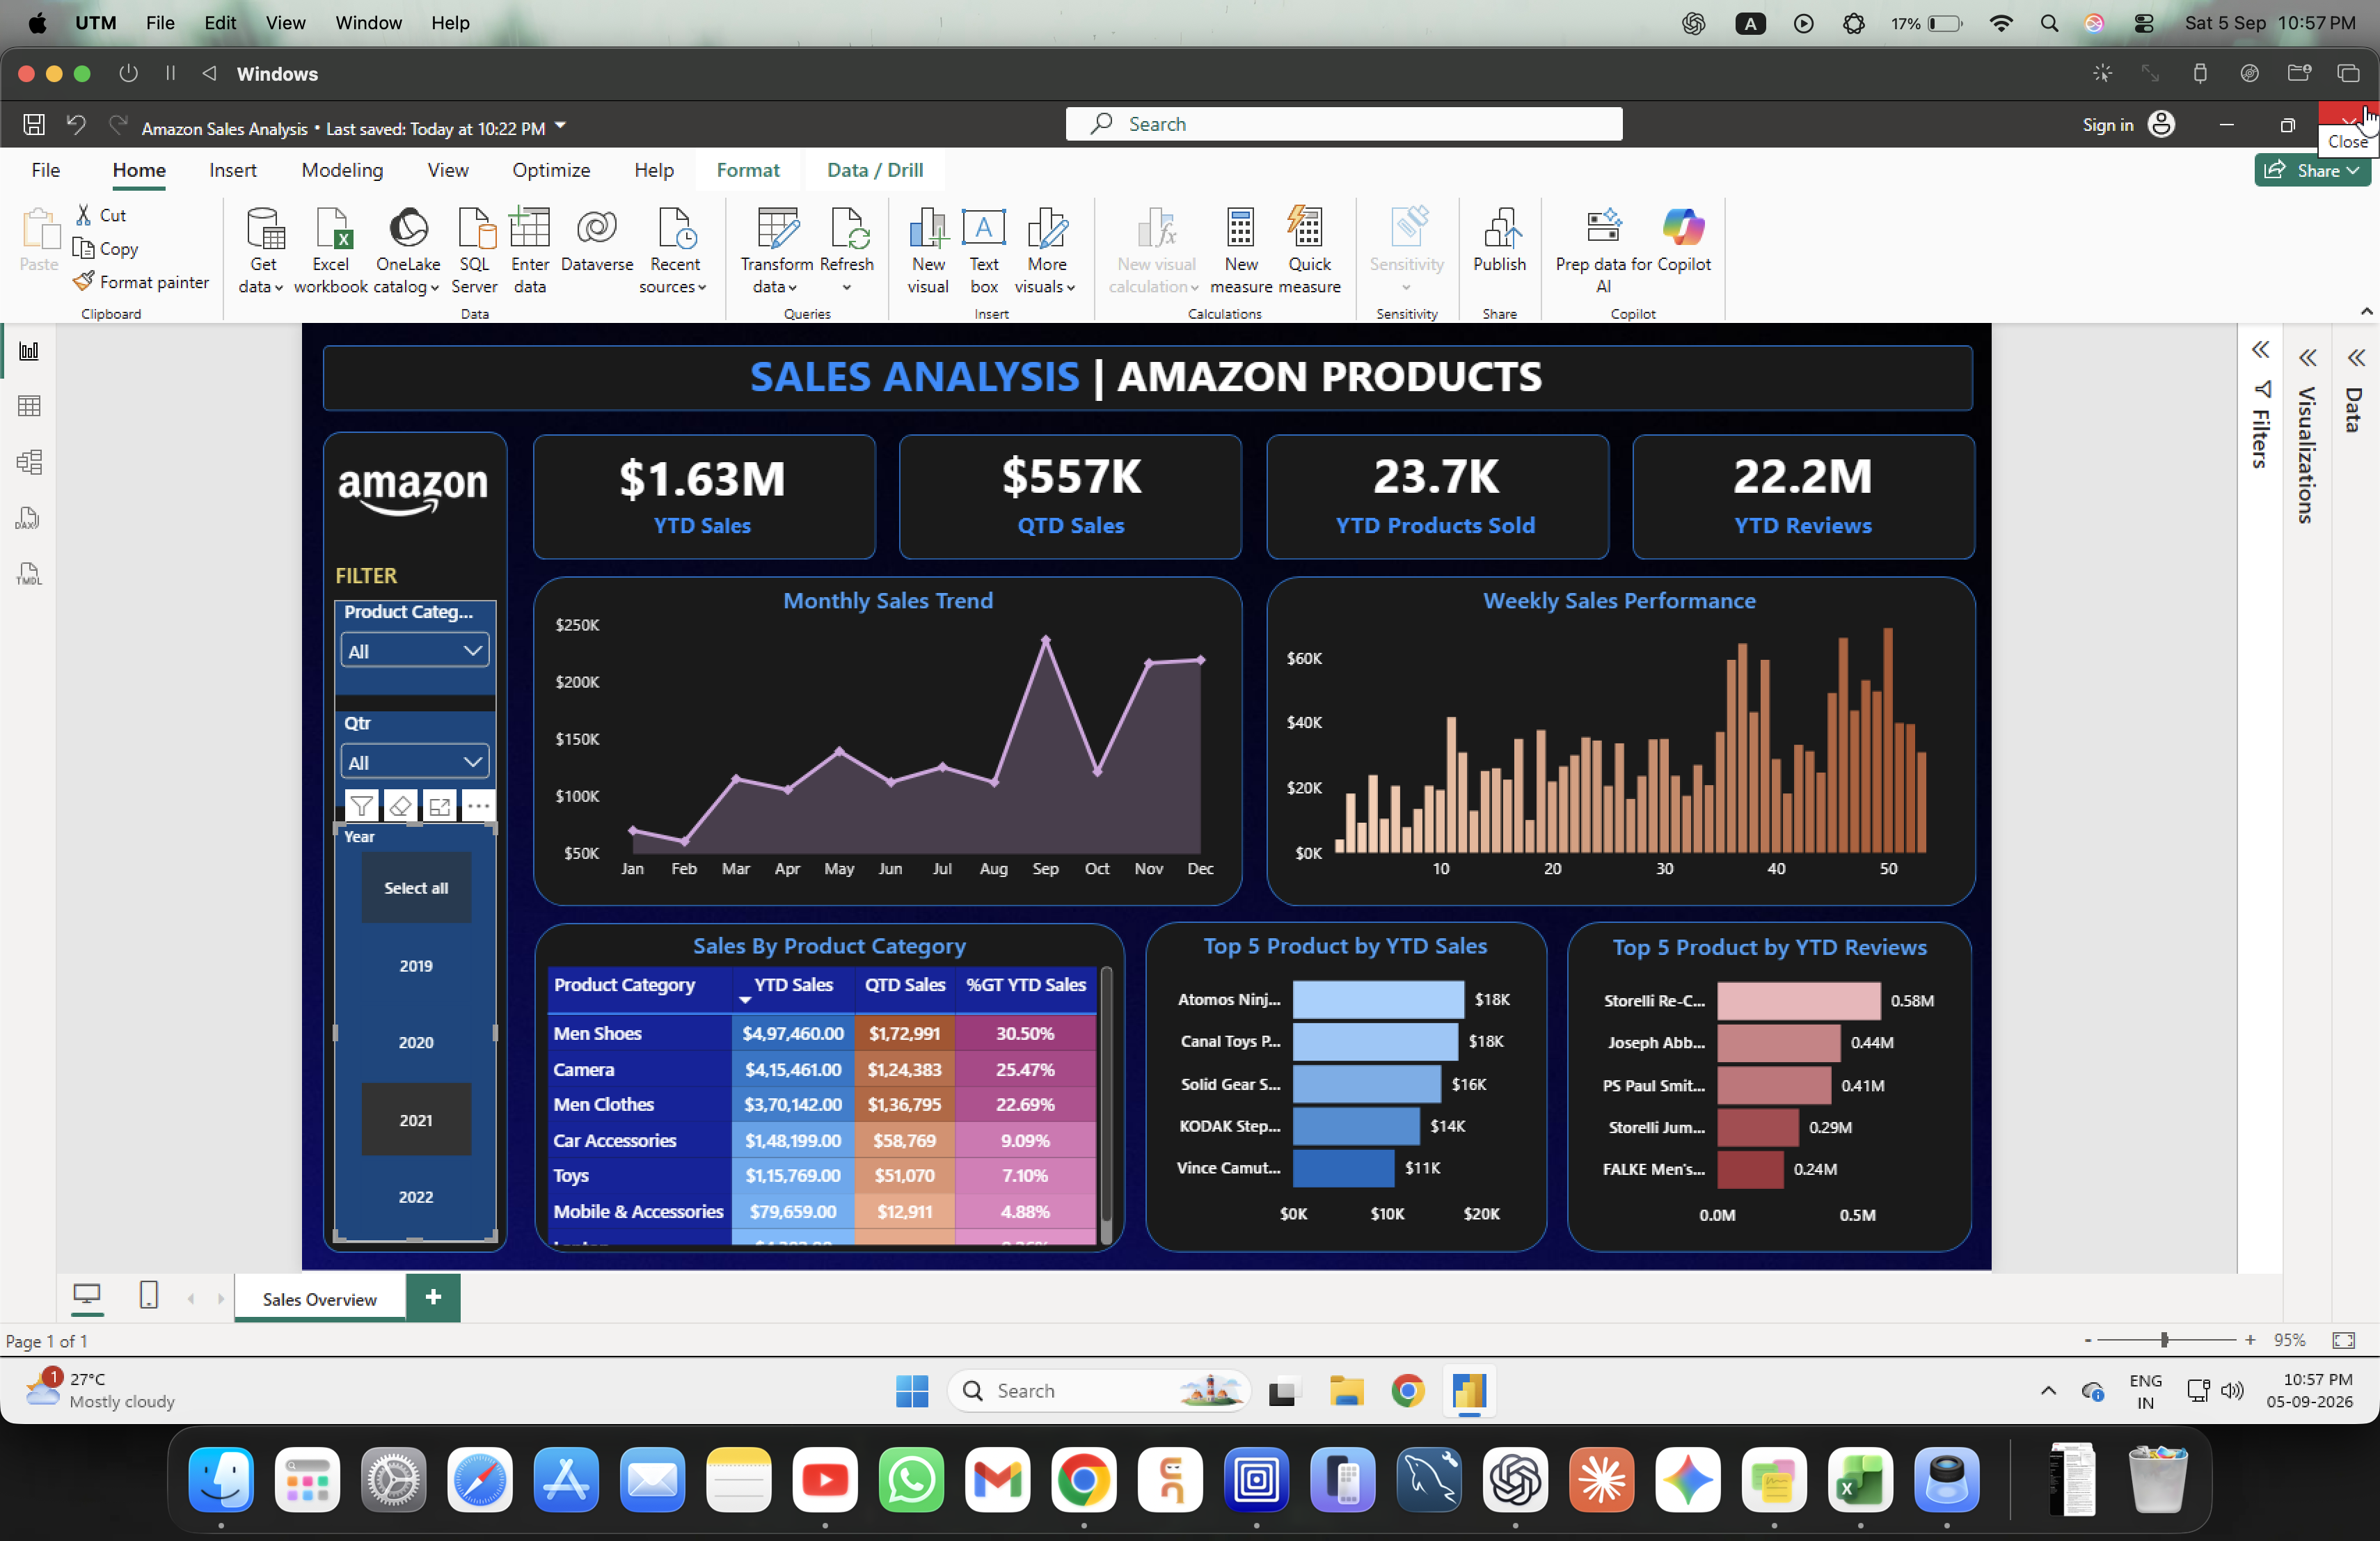

The dashboard page shown, as its layout file describes it:
{"tool":"powerbi","page":{"name":"Page 1","canvas":[1280,720],"ordinal":0},"visuals":[{"type":"shape","box":[15.4,16.8,1250,50],"z":0},{"type":"shape","box":[174.6,84.3,260,95],"z":0,"group":"g1"},{"type":"textbox","box":[334,16.8,610.7,50.3],"z":1000},{"type":"cardVisual","fields":{"Data":["Amazon_Data.YTD Sales"]},"box":[173.8,85.9,259.9,95],"z":1000,"group":"g1"},{"type":"shape","box":[15.4,82.4,140,622],"z":2000},{"type":"shape","box":[1007.6,84.3,260,95],"z":2000,"group":"g1"},{"type":"group","id":"g1","title":"Group 1","box":[173.8,84.3,1093.8,96.6],"z":3000},{"type":"shape","box":[729.9,84.3,260,95],"z":3000,"group":"g1"},{"type":"shape","box":[452.2,84.3,260,95],"z":4000,"group":"g1"},{"type":"shape","box":[174.5,191.6,538,250.1],"z":4000},{"type":"cardVisual","fields":{"Data":["Amazon_Data.QTD Sales"]},"box":[452.9,84.3,259.9,95],"z":5000,"group":"g1"},{"type":"areaChart","title":"Sales by Month","fields":{"Category":["Date Table.Month Name"],"Y":["Sum(Amazon_Data.Price(Dollar))"]},"box":[175.9,191.6,536.3,250.3],"z":5000},{"type":"cardVisual","fields":{"Data":["Amazon_Data.YTD Products Sold"]},"box":[729.5,84.3,259.9,95],"z":6000,"group":"g1"},{"type":"shape","box":[730.8,191.6,538,250.1],"z":6000},{"type":"cardVisual","fields":{"Data":["Amazon_Data.YTD Reviews"]},"box":[1007.6,84.3,259.9,95],"z":7000,"group":"g1"},{"type":"columnChart","title":"Sales by Week","fields":{"Category":["Date Table.Week"],"Y":["Sum(Amazon_Data.Price(Dollar))"]},"box":[729.4,191.6,537.7,250.3],"z":7000},{"type":"shape","box":[175.9,454.8,447.6,250.3],"z":8000},{"type":"pivotTable","title":"Sales By Product Category","fields":{"Rows":["Amazon_Data.Product Category"],"Values":["Amazon_Data.YTD Sales","Amazon_Data.QTD Sales","Divide(Amazon_Data.YTD Sales, ScopedEval(Amazon_Data.YTD Sales, []))"]},"box":[175.9,453.4,447.6,250.3],"z":9000},{"type":"shape","box":[958.2,453.2,307.3,250.7],"z":10000},{"type":"shape","box":[638.8,453.2,304.9,250.7],"z":11000},{"type":"clusteredBarChart","title":"Top 5 Product by YTD Sales","fields":{"Category":["Amazon_Data.Product Description"],"Y":["Amazon_Data.YTD Sales"]},"box":[635.2,453.2,309.8,250.7],"z":12000},{"type":"clusteredBarChart","title":"Top 5 Product by YTD Reviews","fields":{"Category":["Amazon_Data.Product Description"],"Y":["Amazon_Data.YTD Reviews"]},"box":[957,454.4,309.8,250.7],"z":13000},{"type":"slicer","fields":{"Values":["Amazon_Data.Product Category"]},"box":[24.3,210.2,123,71.5],"z":14000,"group":"g2"},{"type":"slicer","fields":{"Values":["Date Table.Qtr"]},"box":[24.3,294.6,123,71.5],"z":15000,"group":"g2"},{"type":"slicer","fields":{"Values":["Date Table.Year"]},"box":[24.3,379,123,317.5],"z":16000,"group":"g2"},{"type":"image","box":[21.5,94.4,128.7,74.4],"z":17000},{"type":"group","id":"g2","title":"Group 2","box":[24.3,210.2,123,486.3],"z":17001},{"type":"textbox","box":[24.8,180.6,82.6,29.5],"z":17002}]}

Visuals, with their boxes on the page's 1280x720 design canvas (x1, y1, x2, y2). These are canvas units, not pixel positions in the 2380x1541 screenshot, which may show the page scaled, cropped or inside an application window:
shape: 15/17/1265/67
shape: 175/84/435/179
textbox: 334/17/945/67
cardVisual - Amazon_Data.YTD Sales: 174/86/434/181
shape: 15/82/155/704
shape: 1008/84/1268/179
"Group 1" group: 174/84/1268/181
shape: 730/84/990/179
shape: 452/84/712/179
shape: 174/192/712/442
cardVisual - Amazon_Data.QTD Sales: 453/84/713/179
"Sales by Month" areaChart: 176/192/712/442
cardVisual - Amazon_Data.YTD Products Sold: 730/84/989/179
shape: 731/192/1269/442
cardVisual - Amazon_Data.YTD Reviews: 1008/84/1268/179
"Sales by Week" columnChart: 729/192/1267/442
shape: 176/455/624/705
"Sales By Product Category" pivotTable: 176/453/624/704
shape: 958/453/1266/704
shape: 639/453/944/704
"Top 5 Product by YTD Sales" clusteredBarChart: 635/453/945/704
"Top 5 Product by YTD Reviews" clusteredBarChart: 957/454/1267/705
slicer - Amazon_Data.Product Category: 24/210/147/282
slicer - Date Table.Qtr: 24/295/147/366
slicer - Date Table.Year: 24/379/147/696
image: 22/94/150/169
"Group 2" group: 24/210/147/696
textbox: 25/181/107/210
